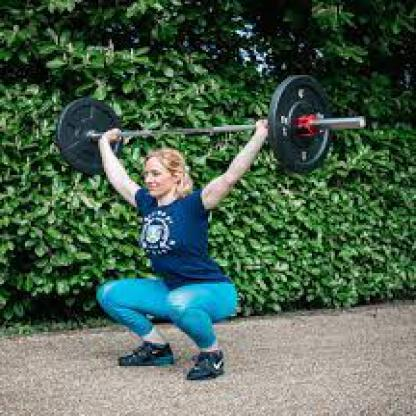Barbell: (266, 68, 336, 178)
